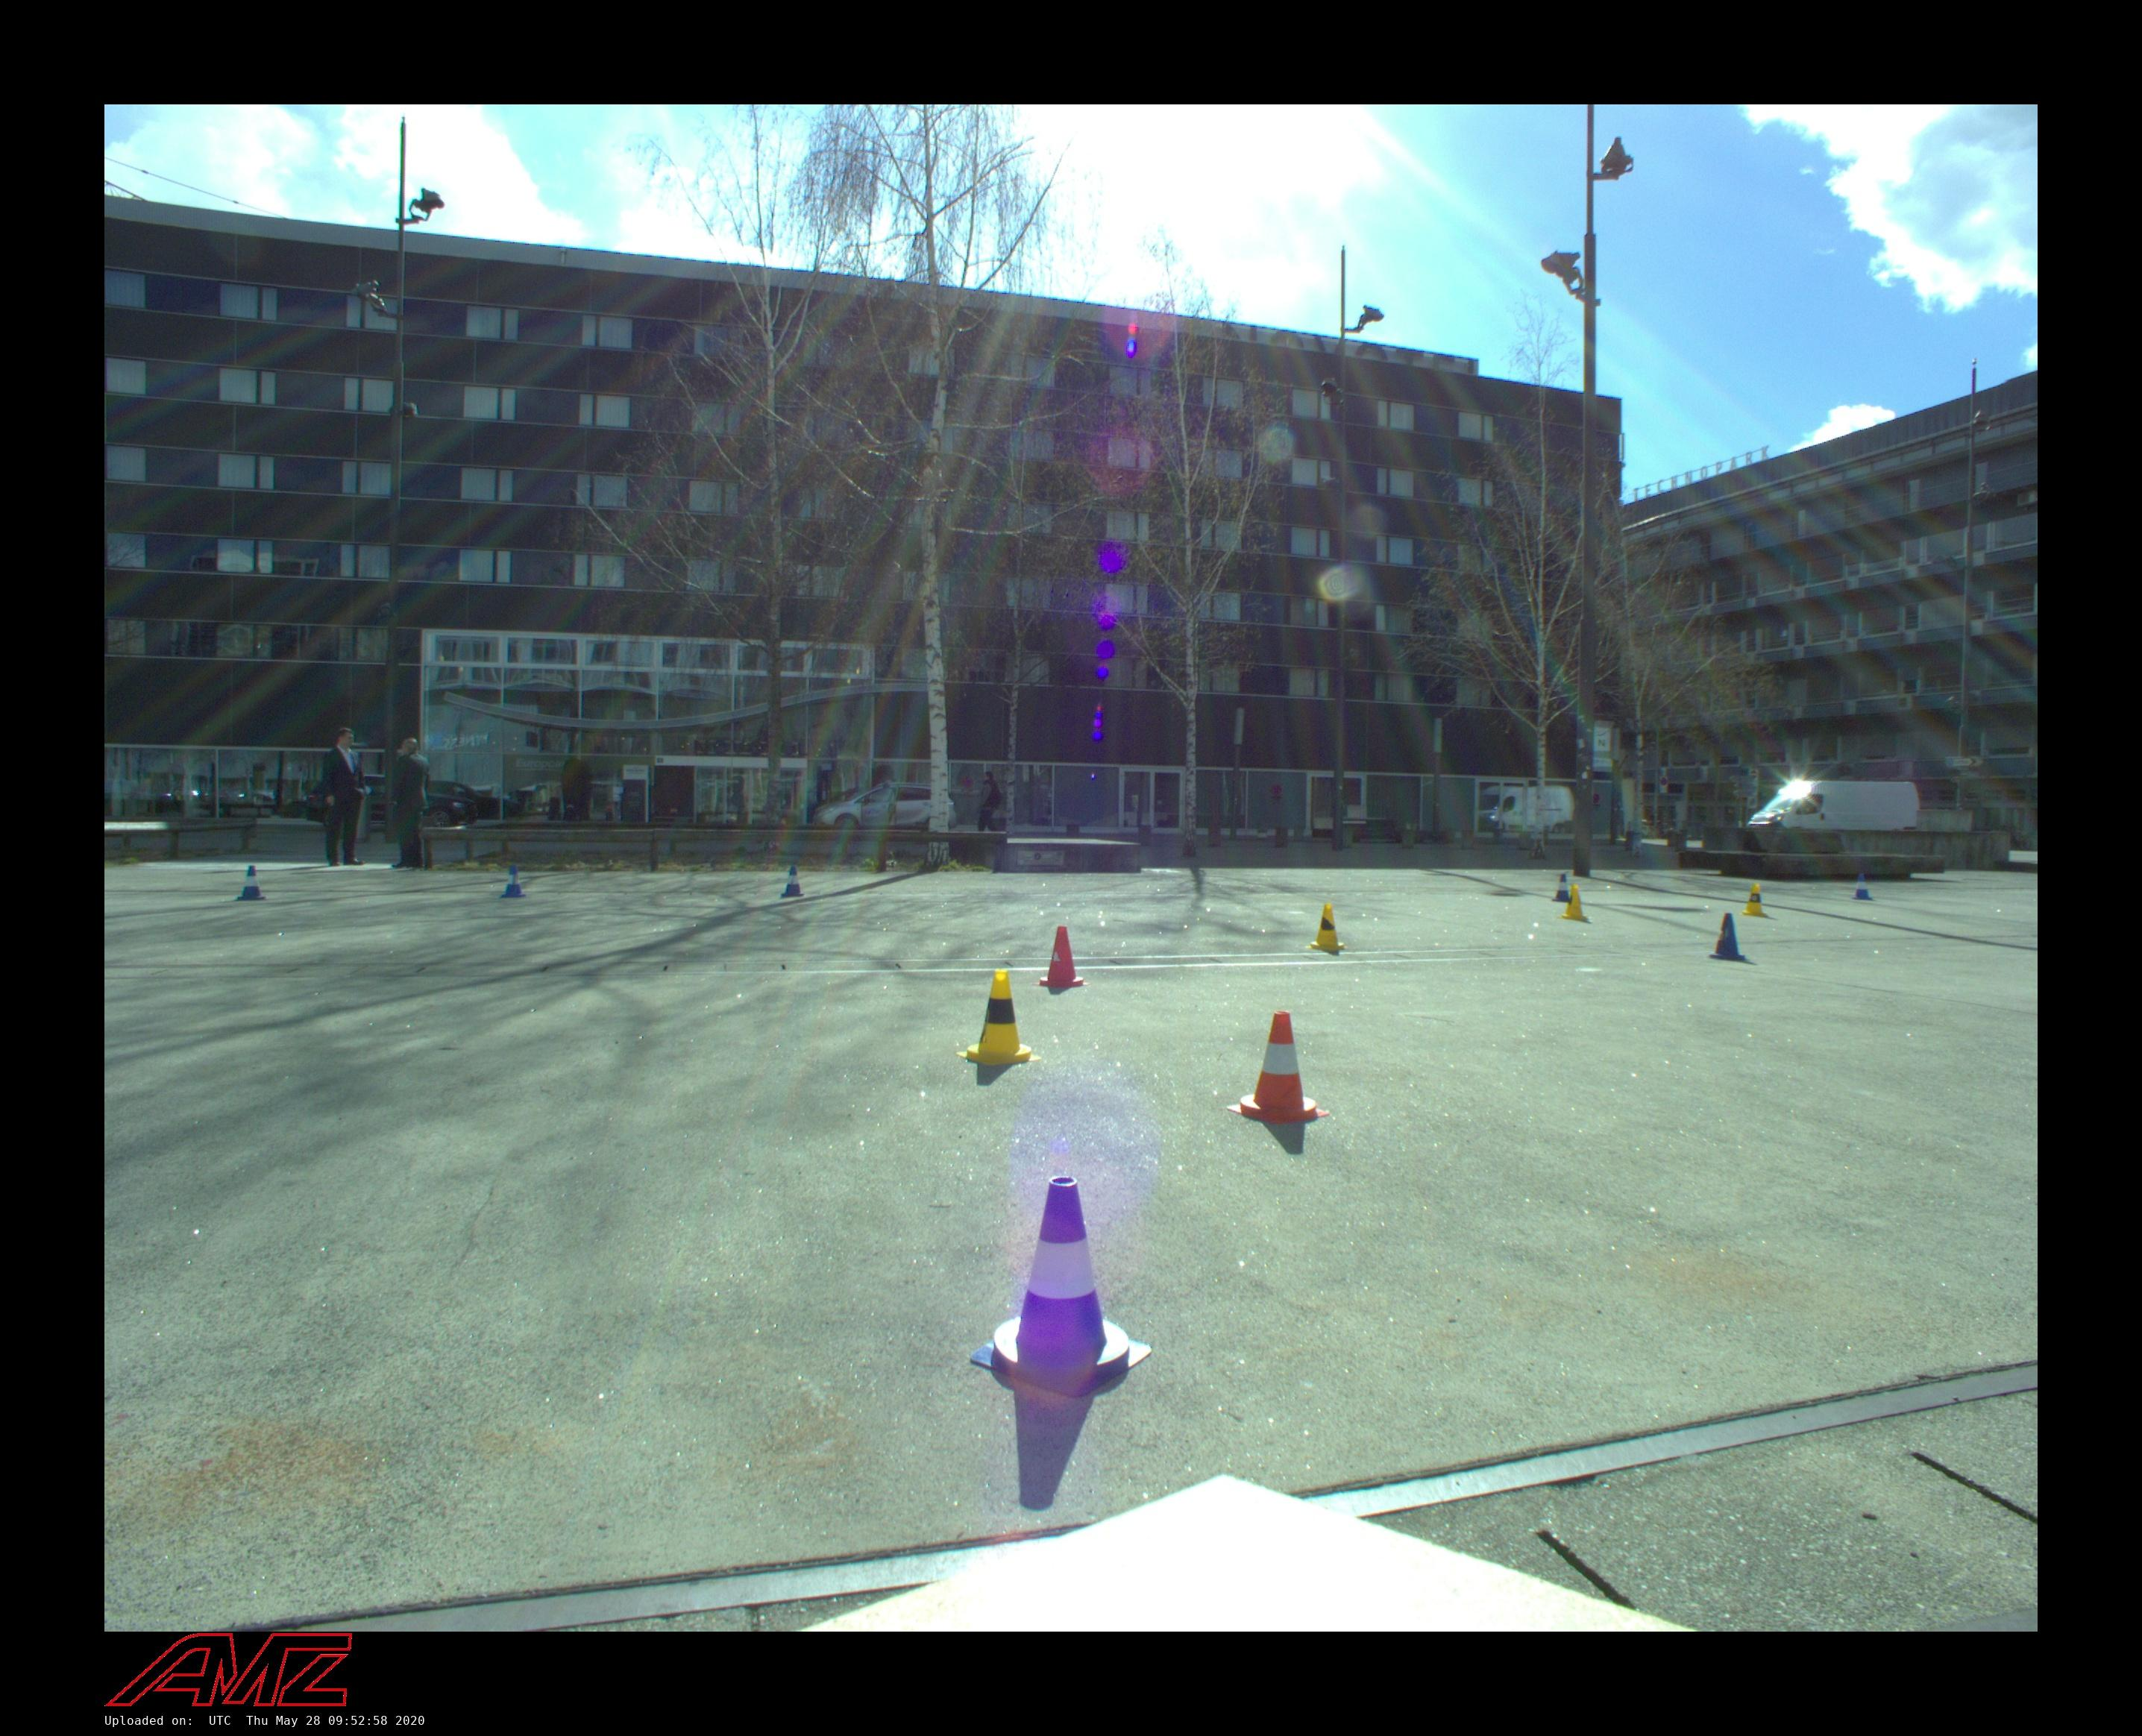blue_cone: (969, 1174, 1152, 1396), (1708, 912, 1749, 960), (237, 864, 268, 902), (501, 864, 526, 898), (781, 866, 804, 896), (1851, 873, 1876, 900), (1552, 873, 1572, 903)
orange_cone: (1226, 1010, 1331, 1125), (1033, 926, 1090, 987)
yellow_cone: (957, 967, 1042, 1066), (1306, 903, 1348, 953), (1559, 884, 1587, 919), (1742, 882, 1766, 916)
